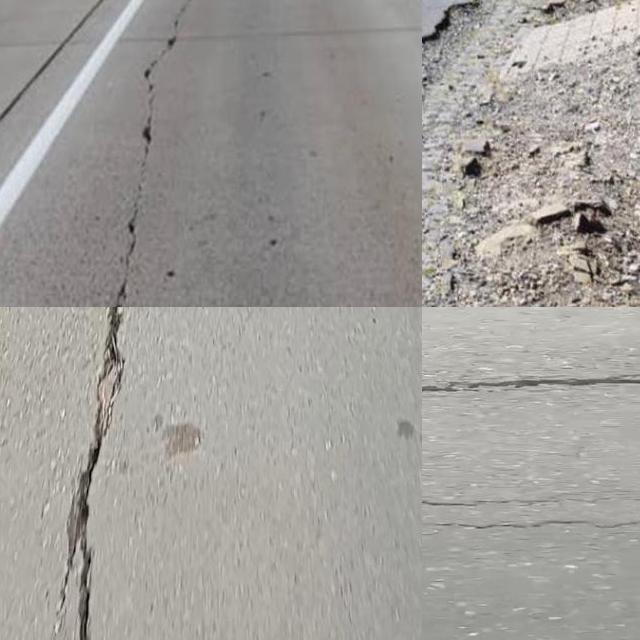Melintang: (422, 358, 640, 408)
Memanjang: (92, 0, 203, 307), (59, 307, 132, 640)
